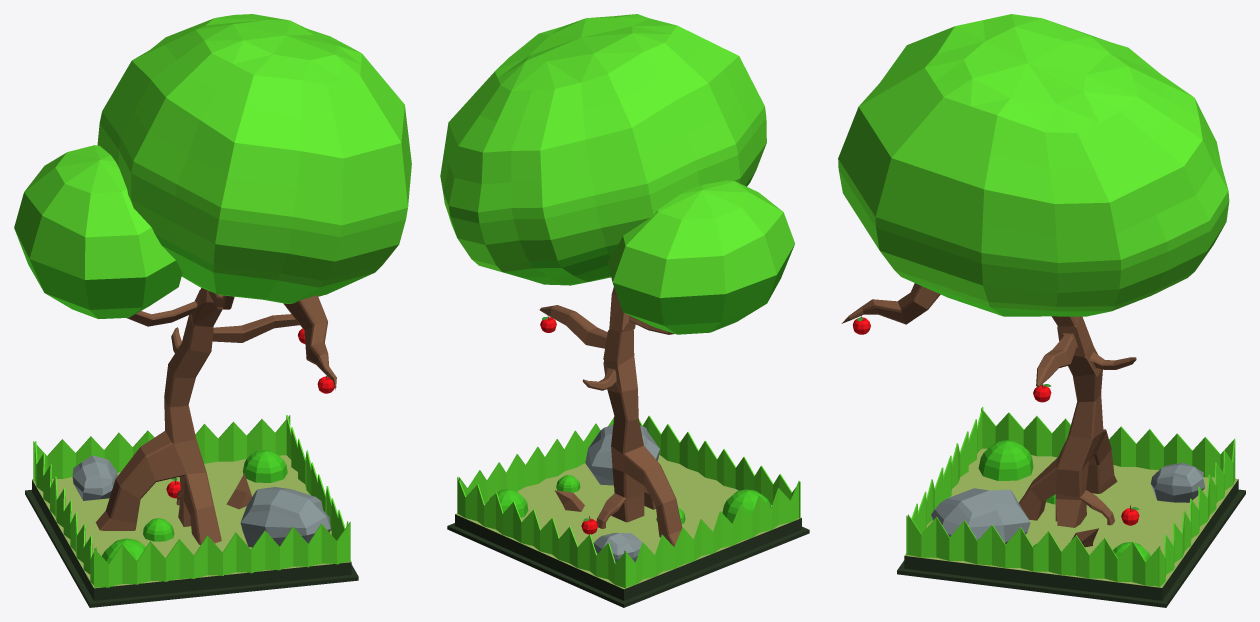
3 renders of one model, left to right at view 1: azimuth 30°, elevation 25°; view 2: azimuth 150°, elevation 25°; view 3: azimuth 270°, elevation 25°, orthographic. The views are drawn at different scales.
Visible parts, largest first — view 1: Copa 2, Copa, Floor, Tronco, Grama Borda, Grama Borda.001, Pedra.001, Grama Borda.002, Galho, Grama Borda.003, Pedra, Arbusto 3 (+2 smaller); view 2: Copa 2, Copa, Floor, Tronco, Grama Borda.002, Grama Borda.001, Grama Borda, Grama Borda.003, Pedra.001, Pedra, Arbusto, Arbusto 3; view 3: Copa 2, Floor, Tronco, Grama Borda.003, Grama Borda.002, Pedra.001, Grama Borda.001, Grama Borda, Arbusto, Pedra, Galho.
Part boxes in pixels (x1,y1,x2,y2): Copa 2: [97, 14, 411, 303]; Copa: [14, 145, 182, 318]; Floor: [25, 455, 358, 607]; Tronco: [95, 288, 299, 544]; Grama Borda: [94, 521, 350, 587]; Grama Borda.001: [33, 415, 290, 480]; Pedra.001: [240, 487, 330, 547]; Grama Borda.002: [35, 441, 96, 584]; Galho: [283, 295, 336, 389]; Grama Borda.003: [286, 415, 348, 540]; Pedra: [72, 455, 117, 500]; Arbusto 3: [242, 450, 287, 482]; Copa 2: [440, 14, 766, 285]; Copa: [607, 180, 794, 334]; Floor: [447, 455, 809, 607]; Tronco: [539, 287, 682, 546]; Grama Borda.002: [624, 481, 799, 586]; Grama Borda.001: [457, 476, 626, 588]; Grama Borda: [639, 415, 800, 518]; Grama Borda.003: [459, 417, 613, 503]; Pedra.001: [585, 425, 659, 485]; Pedra: [593, 533, 642, 562]; Arbusto: [722, 489, 771, 523]; Arbusto 3: [489, 489, 528, 517]; Copa 2: [838, 14, 1229, 316]; Floor: [897, 448, 1245, 607]; Tronco: [1019, 316, 1136, 547]; Grama Borda.003: [908, 514, 1160, 586]; Grama Borda.002: [981, 408, 1233, 477]; Pedra.001: [931, 488, 1030, 543]; Grama Borda.001: [1158, 438, 1235, 587]; Grama Borda: [906, 407, 983, 555]; Arbusto: [978, 440, 1033, 480]; Pedra: [1151, 462, 1205, 502]; Galho: [841, 283, 940, 324].
Size of the model in its own units: 1.98 by 2.83 by 2.02.
